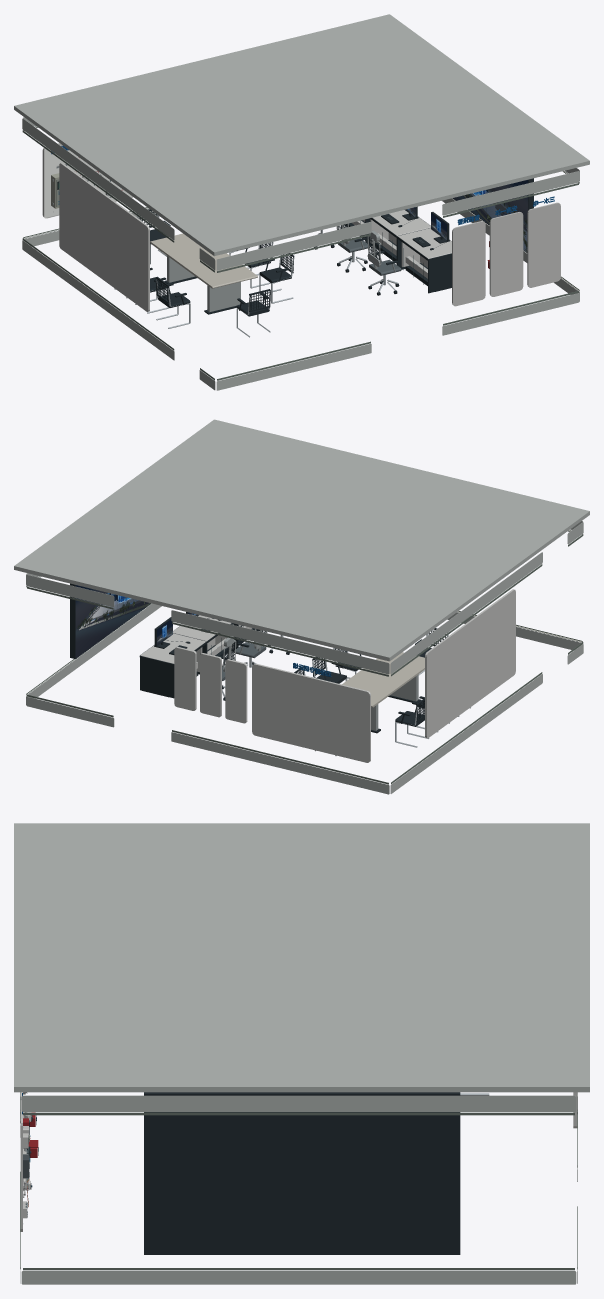
The model's file is fire-room-lod2.glb.
3 renders of one model, top to bottom at view 1: azimuth 30°, elevation 25°; view 2: azimuth 150°, elevation 25°; view 3: azimuth 270°, elevation 25°, orthographic. The views are drawn at different scales.
Visible parts, largest first — view 1: V6_FC_PAINTED, V6_FC_DARK, V6_TEX_screen-main, V6_FC_METAL, V6_TEX_board-01; view 2: V6_FC_PAINTED, V6_FC_DARK, V6_TEX_screen-main; view 3: V6_FC_PAINTED, V6_FC_DARK.
Boxes of the visible parts, x1,y1,x2,y2 form: V6_FC_PAINTED: (14, 14, 589, 390); V6_FC_DARK: (22, 126, 579, 380); V6_TEX_screen-main: (453, 180, 528, 252); V6_FC_METAL: (52, 179, 418, 337); V6_TEX_board-01: (44, 144, 132, 217); V6_FC_PAINTED: (14, 419, 589, 794); V6_FC_DARK: (26, 530, 583, 784); V6_TEX_screen-main: (75, 585, 150, 658); V6_FC_PAINTED: (14, 823, 589, 1284); V6_FC_DARK: (20, 1092, 577, 1270).
Bounding box in the file's own units: 8.28 × 3.08 × 7.65.
20 materials, 13 textured.
